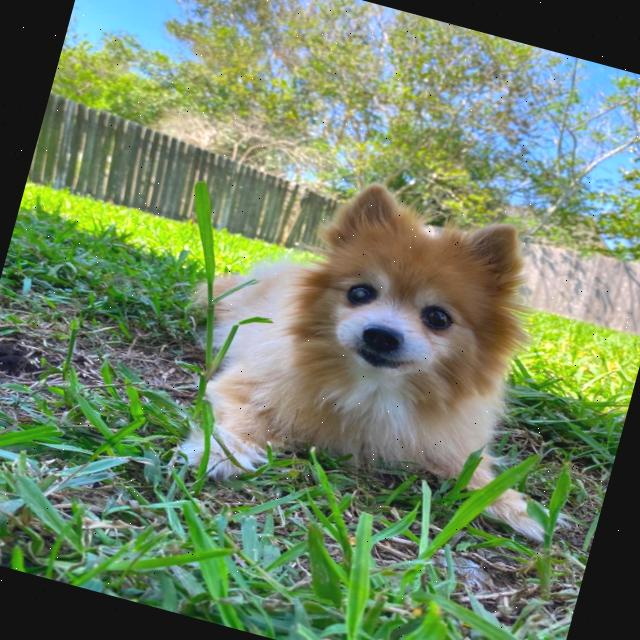pomeranian_dog: (241, 151, 579, 462)
